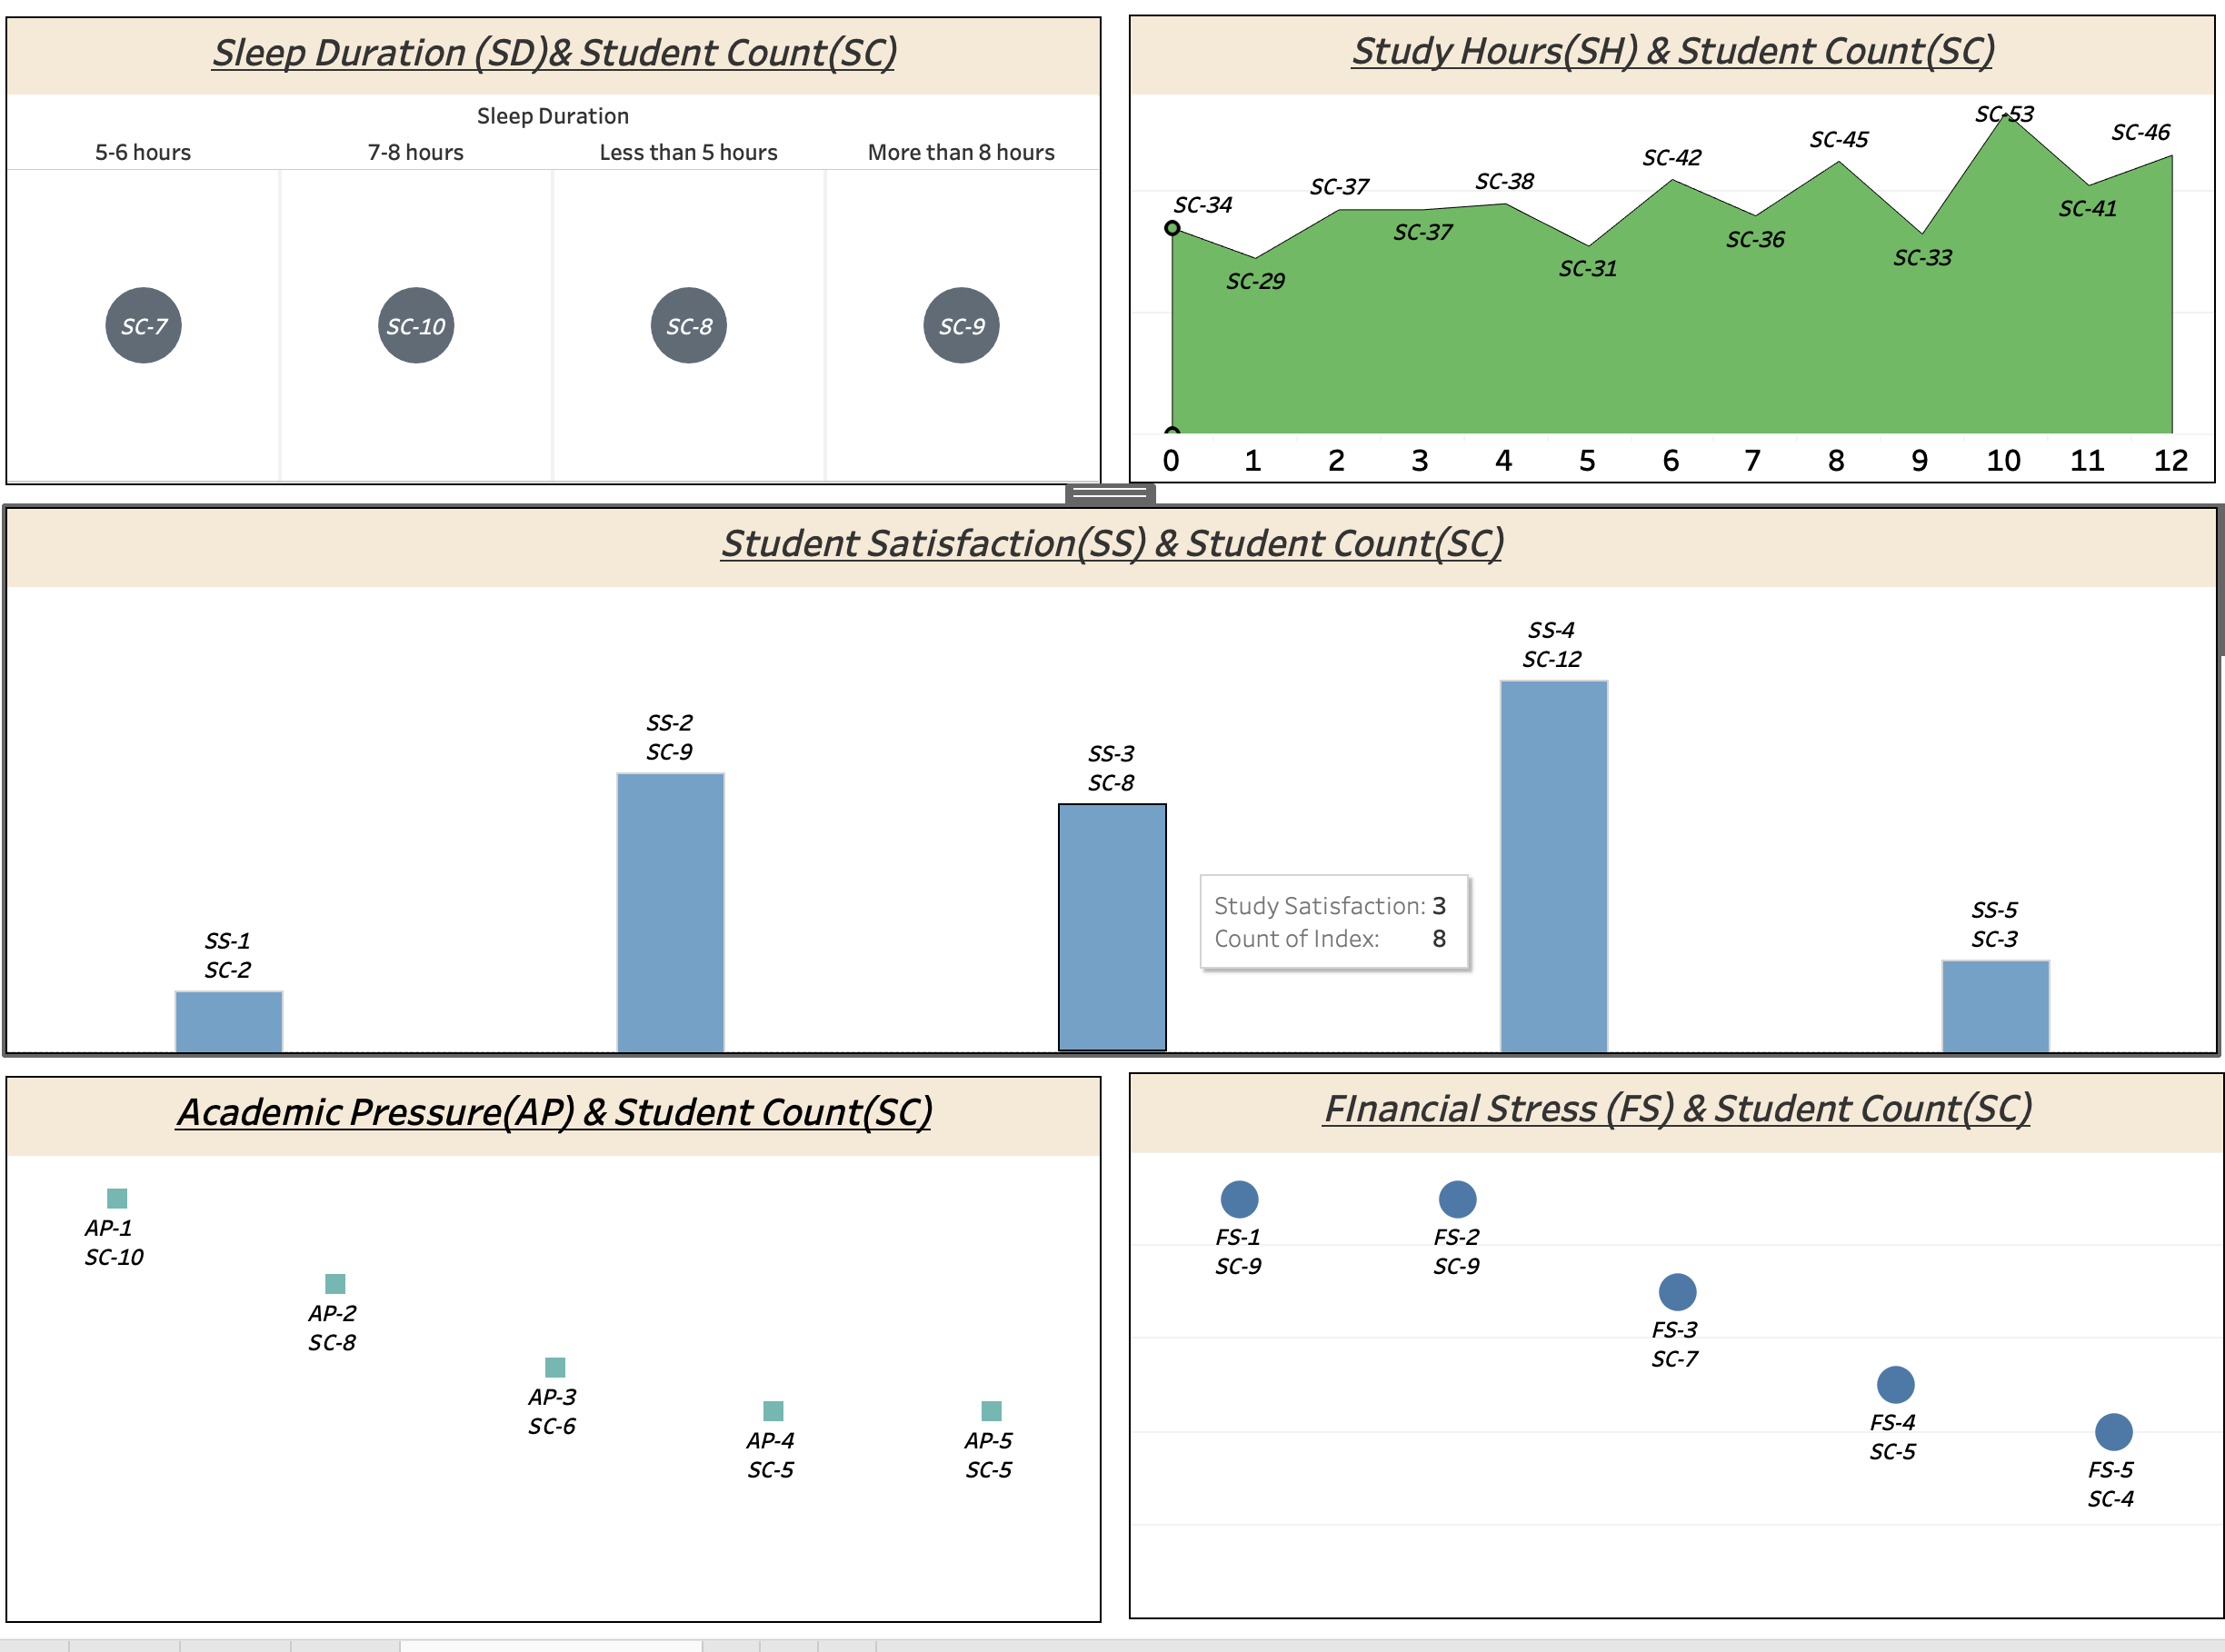

The page's visual inventory and layout, read from the dashboard file:
{"tool":"tableau","page":{"name":"Student Count Analysis","canvas":[1000,1000],"units":"permille","ordinal":0},"visuals":[{"type":"worksheet","title":"Sh & SC","mark":"Area","rows":["index"],"cols":["Study Hours"],"box":[425.5,13.3,407.1,285.1]},{"type":"worksheet","title":"SD & SC","mark":"Pie","cols":["Sleep Duration"],"box":[4.8,14.4,410.5,285.1]},{"type":"worksheet","title":"SS & SC","mark":"Automatic","rows":["index"],"cols":["Study Satisfaction"],"box":[4.8,312.7,828.5,332.6]},{"type":"worksheet","title":"FC & SC","mark":"Circle","rows":["index"],"cols":["Financial Stress"],"box":[425.5,656.4,410.5,332.6]},{"type":"worksheet","title":"AP & SC","mark":"Square","rows":["index"],"cols":["Academic Pressure"],"box":[4.8,658.6,410.5,332.6]}]}

Visuals, with their boxes on the dashboard's canvas, which has no fixed pixel size, in thousandths of its width and height (x1, y1, x2, y2). These are canvas units, not pixel positions in the 2225x1652 screenshot, which may show the page scaled, cropped or inside an application window:
"Sh & SC" worksheet (Area marks): (left=426, top=13, right=833, bottom=298)
"SD & SC" worksheet (Pie marks): (left=5, top=14, right=415, bottom=300)
"SS & SC" worksheet: (left=5, top=313, right=833, bottom=645)
"FC & SC" worksheet (Circle marks): (left=426, top=656, right=836, bottom=989)
"AP & SC" worksheet (Square marks): (left=5, top=659, right=415, bottom=991)
